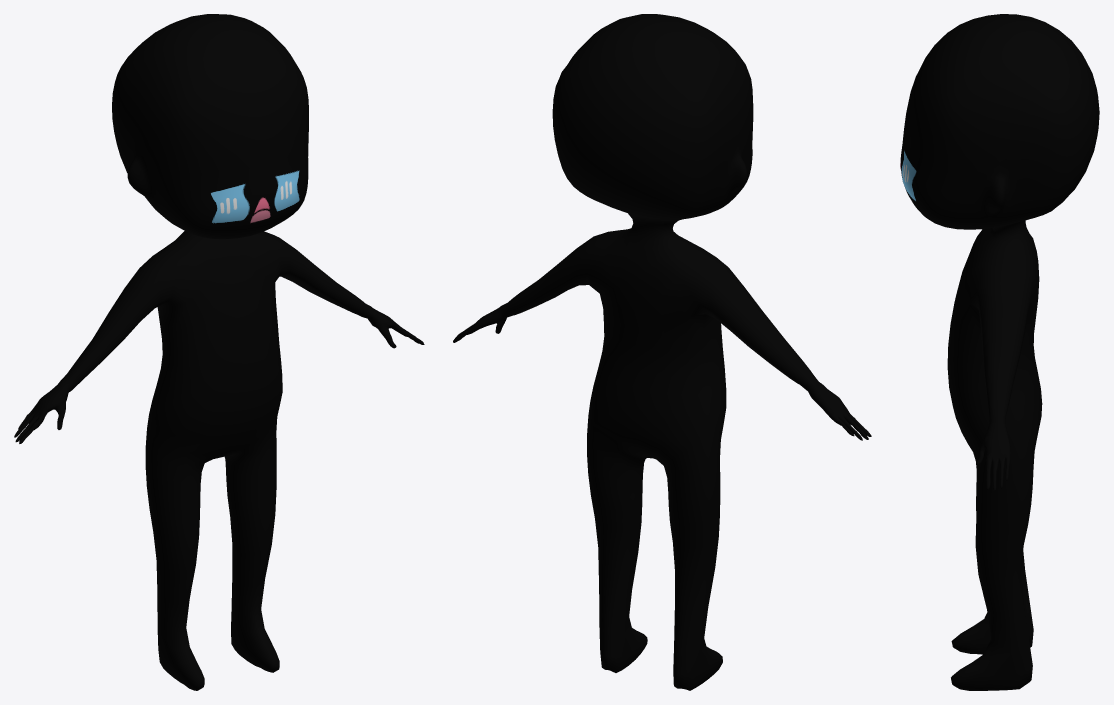
3 renders of one model, left to right at view 1: azimuth 30°, elevation 25°; view 2: azimuth 150°, elevation 25°; view 3: azimuth 270°, elevation 25°, orthographic.
Visible parts, largest first — view 1: BODY_0; view 2: BODY_0; view 3: BODY_0.
Boxes of the visible parts, x1,y1,x2,y2 form: BODY_0: (14,14,424,690); BODY_0: (453,14,871,690); BODY_0: (900,14,1099,690).
Bounding box in the file's own units: 14.06 × 21.28 × 5.93.
Materials: 1 (1 with a texture image).
